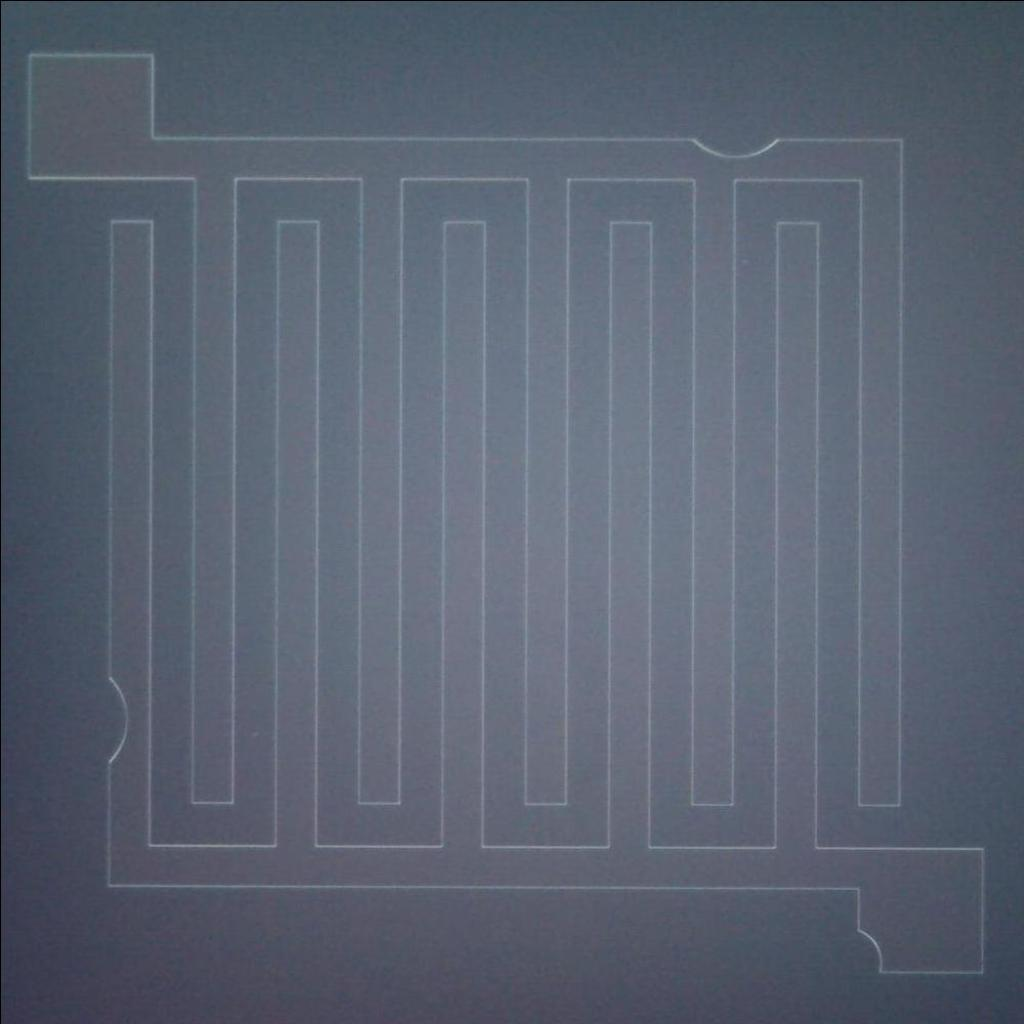curve circuit: (86, 660, 138, 778), (670, 126, 792, 166), (846, 919, 898, 982)
